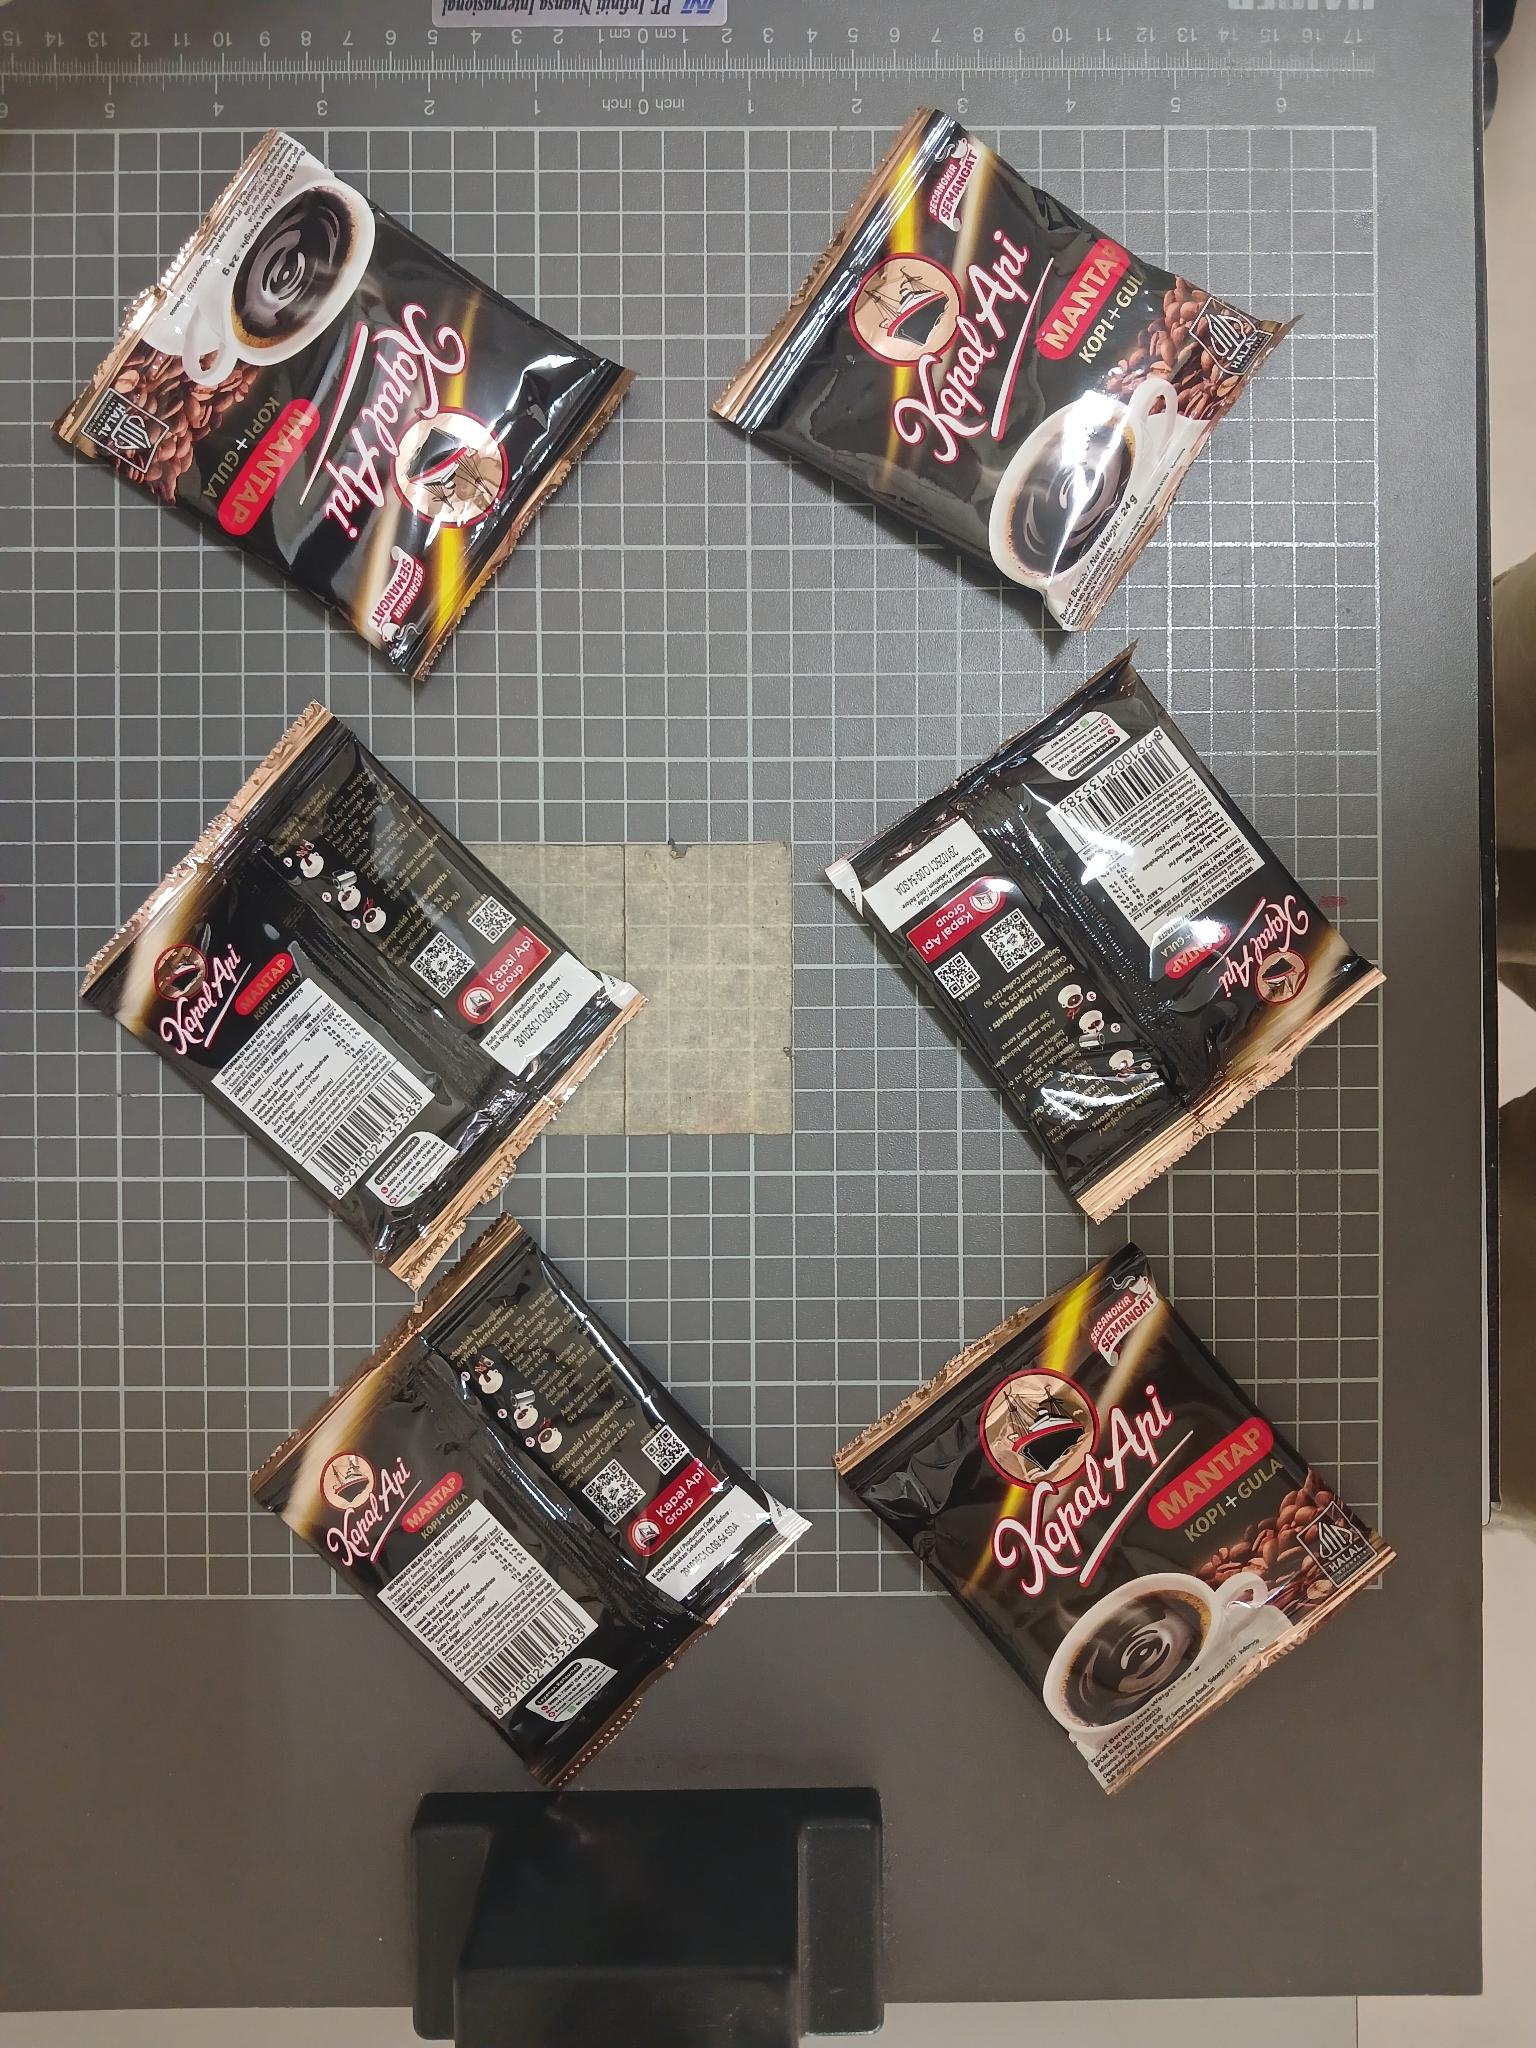back: (66, 695, 655, 1295), (244, 1208, 816, 1796), (818, 643, 1391, 1230)
front: (47, 121, 639, 687), (829, 1234, 1400, 1801), (712, 100, 1296, 642)
